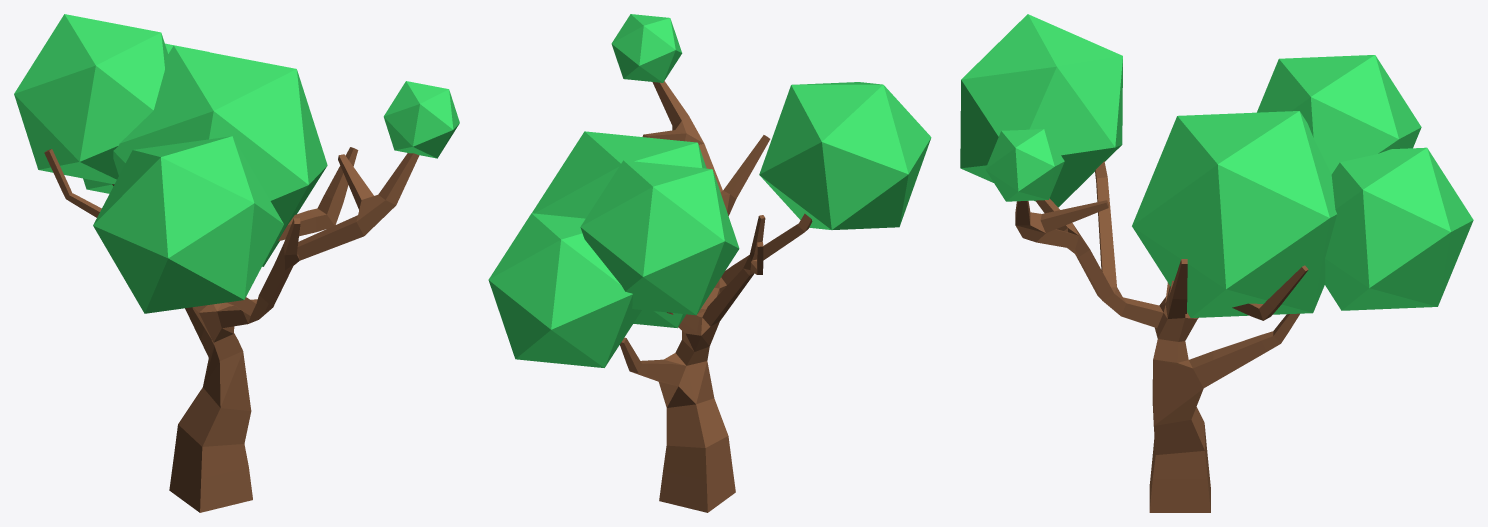
The model's file is tree02.fbx.
The picture shows the model from 3 angles, left to right: view 1: azimuth 30°, elevation 25°; view 2: azimuth 150°, elevation 25°; view 3: azimuth 270°, elevation 25°; orthographic projection. The views are drawn at different scales.
Parts seen in each view (by area): view 1: Icosphere.012, Cube.001; view 2: Icosphere.012, Cube.001; view 3: Icosphere.012, Cube.001.
Boxes of the visible parts, <box> form: Icosphere.012: <box>14,14,459,313</box>; Cube.001: <box>44,147,419,512</box>; Icosphere.012: <box>488,14,931,367</box>; Cube.001: <box>620,81,812,512</box>; Icosphere.012: <box>960,14,1473,317</box>; Cube.001: <box>1015,161,1308,512</box>.
Bounding box in the file's own units: 270 × 327 × 352.
